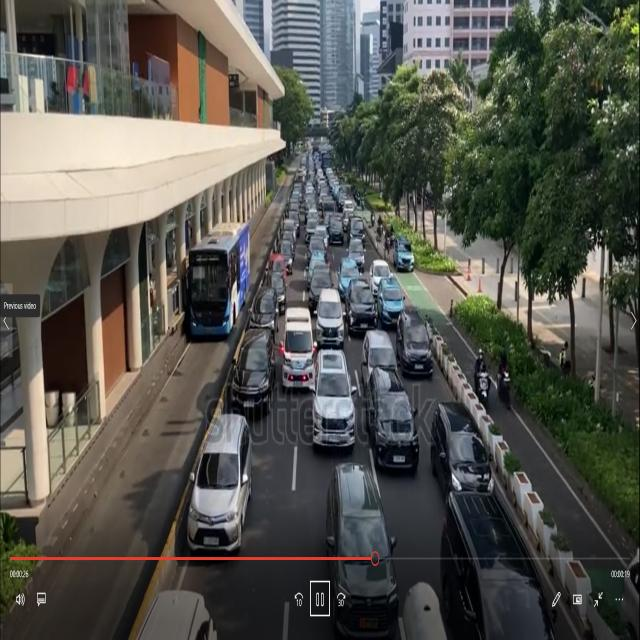Ambulance: (284, 301, 316, 401)
